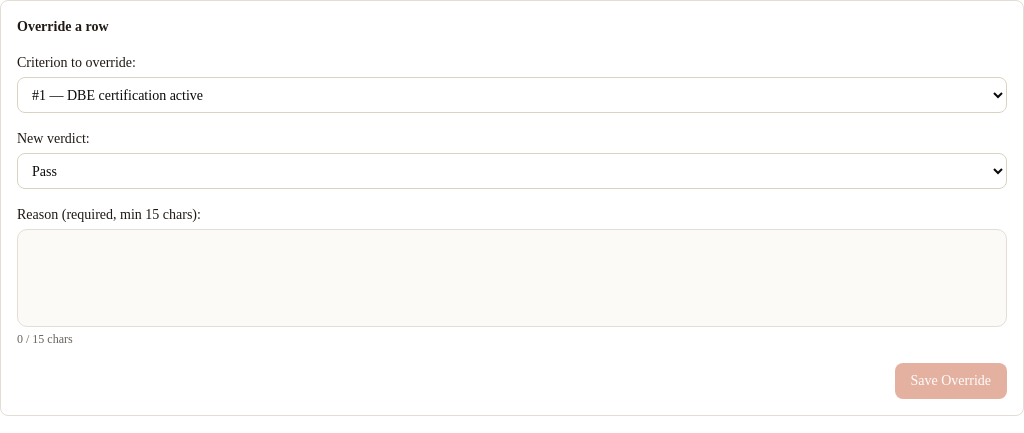
L3OverrideForm › disables Save until reason is at least 15 characters
The width and height of the screenshot is (1024, 433).
Check: the button "Save Override" is disabled, box [894,363,1007,399]
Type "12 characters" into the text box labelled "Reason (required, min 15 chars):".
click(512, 278); type("12 characters")  # box [17,229,1007,327]
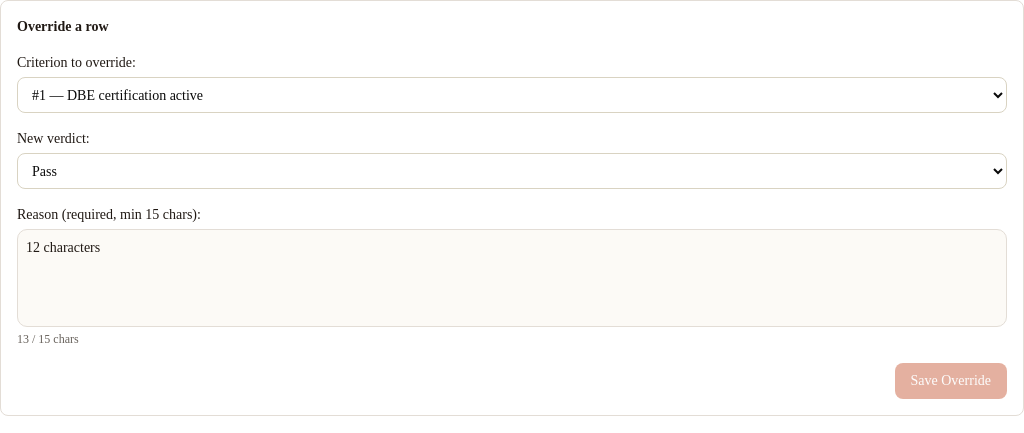
Check: the button "Save Override" is disabled, box [894,363,1007,399]
Replace the text in the text box labelled "Reason (required, min 15 chars):" with "this is the full reason" at (512, 278), box [17,229,1007,327]
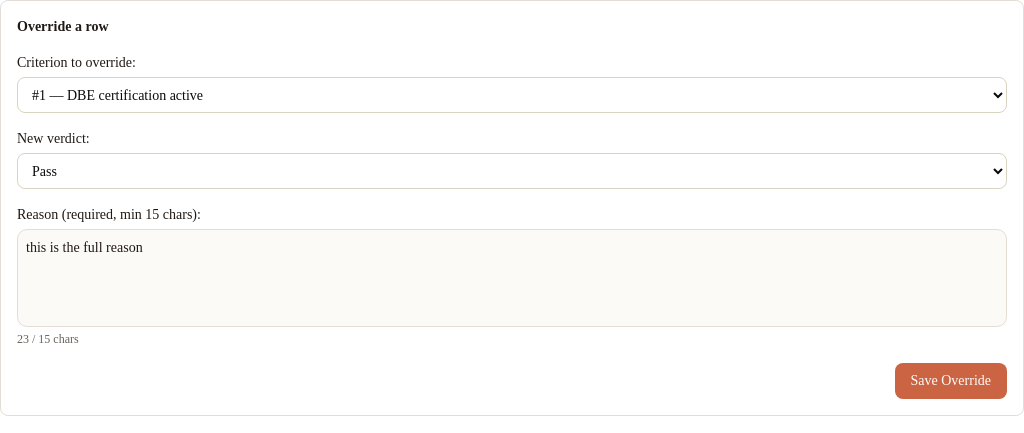
Check: the button "Save Override" is enabled, box [894,363,1007,399]
